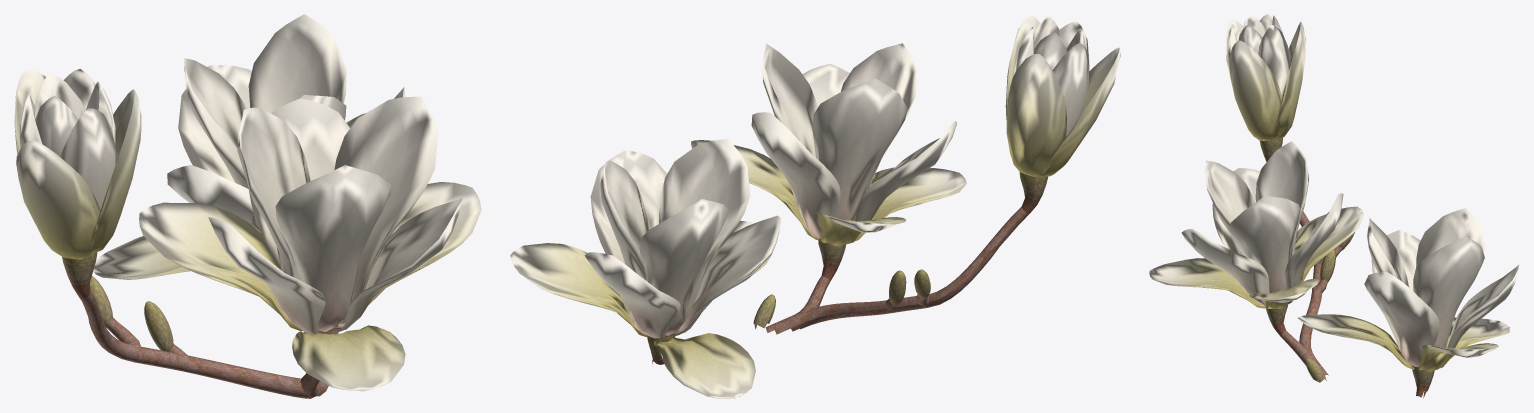
3 views of the same model, side by side, from view 1: azimuth 30°, elevation 25°; view 2: azimuth 150°, elevation 25°; view 3: azimuth 270°, elevation 25° (orthographic). The views are drawn at different scales.
Parts seen in each view (by area): view 1: 16f74ce9; view 2: 16f74ce9; view 3: 16f74ce9.
Part boxes in pixels (left/top/right/bottom): 16f74ce9: left=14, top=14, right=481, bottom=398; 16f74ce9: left=510, top=14, right=1120, bottom=398; 16f74ce9: left=1149, top=14, right=1519, bottom=398.
Bounding box in the file's own units: 0.2081 × 0.1489 × 0.1877.
1 material, 1 textured.
